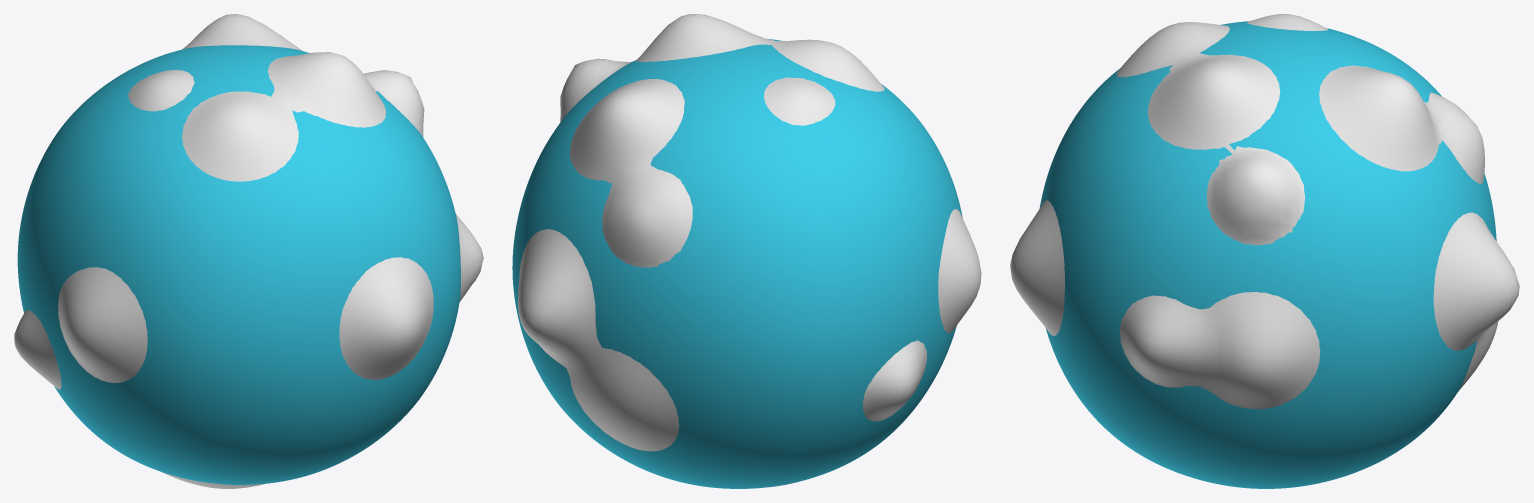
Rendered from water.glb.
The picture shows the model from 3 angles, left to right: view 1: azimuth 30°, elevation 25°; view 2: azimuth 150°, elevation 25°; view 3: azimuth 270°, elevation 25°; orthographic projection. The views are drawn at different scales.
Visible parts, largest first — view 1: Cube.001, Cube; view 2: Cube.001, Cube; view 3: Cube.001, Cube.
Part boxes in pixels (x1,y1,x2,y2): Cube.001: (17, 45, 460, 484); Cube: (14, 14, 483, 488); Cube.001: (512, 39, 962, 488); Cube: (518, 14, 981, 487); Cube.001: (1039, 21, 1496, 488); Cube: (1010, 14, 1519, 409).
Bounding box in the file's own units: 1.84 × 1.79 × 1.88.
